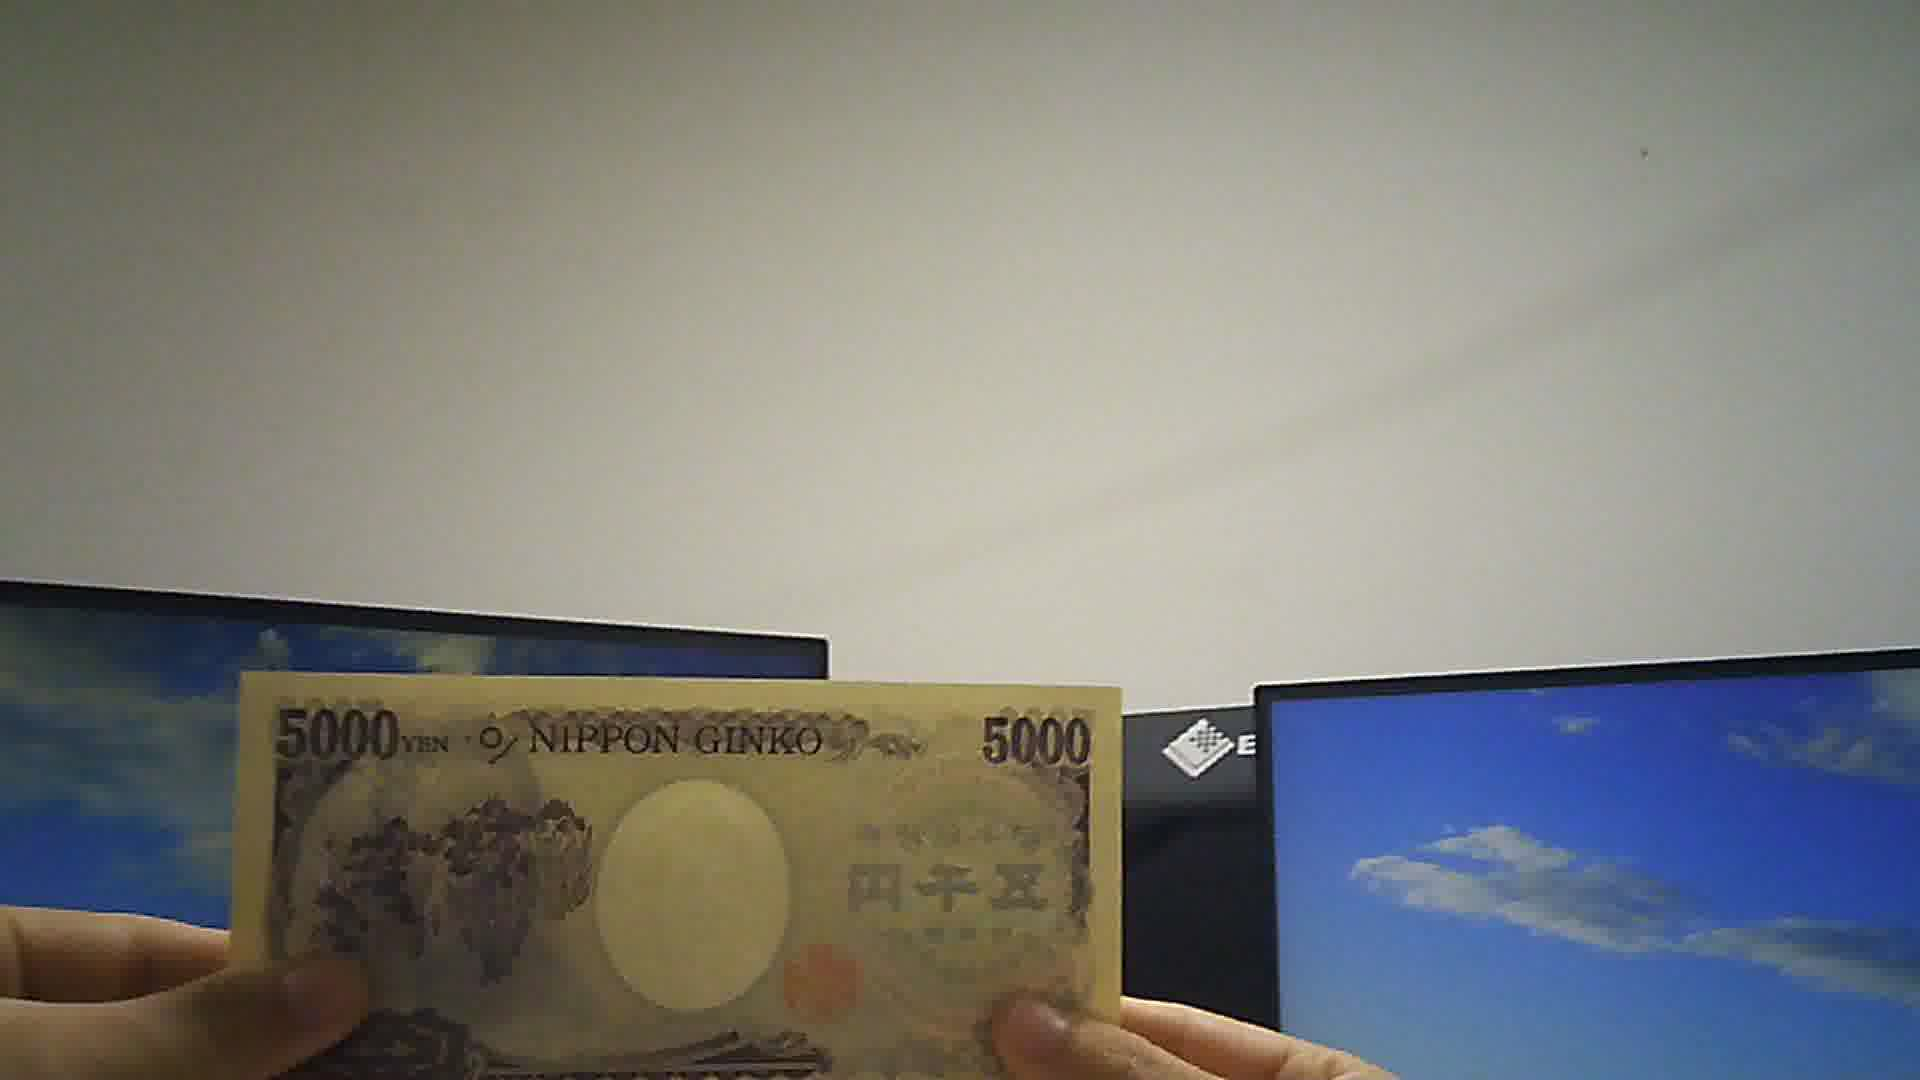5,000 Yen: (225, 655, 1146, 1079)
